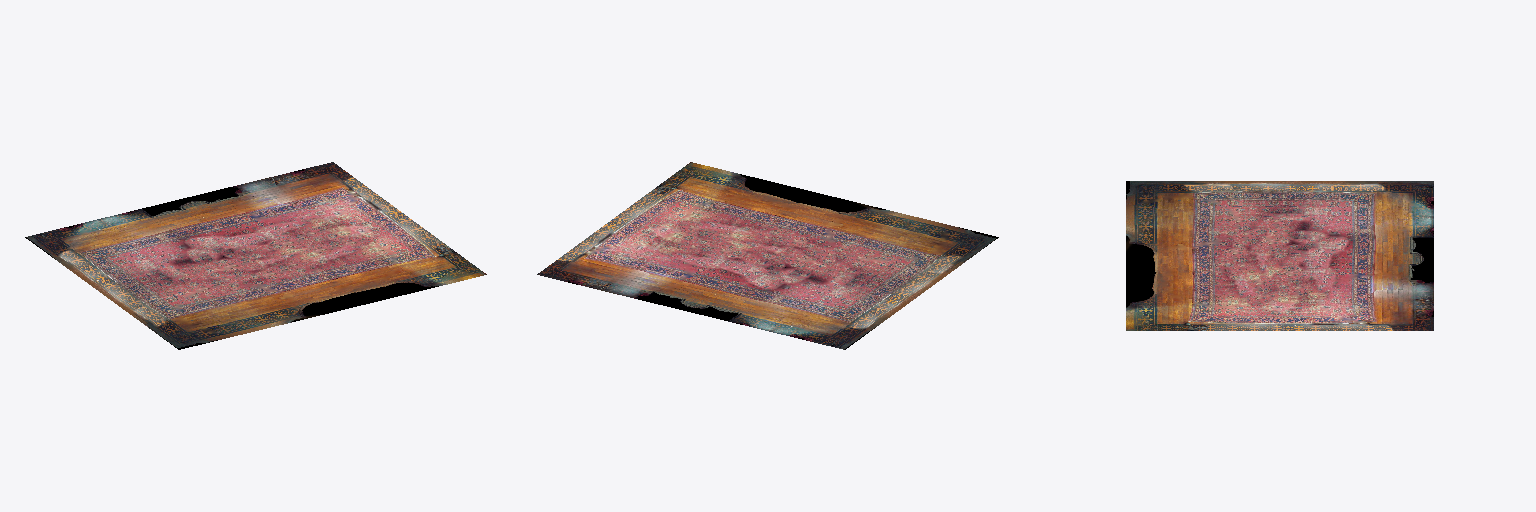
3 renders of one model, left to right at view 1: azimuth 30°, elevation 25°; view 2: azimuth 150°, elevation 25°; view 3: azimuth 270°, elevation 25°, orthographic.
Parts seen in each view (by area): view 1: Kitchen_GEO_GRP1_Floor_01; view 2: Kitchen_GEO_GRP1_Floor_01; view 3: Kitchen_GEO_GRP1_Floor_01.
Boxes of the visible parts, <box> form: Kitchen_GEO_GRP1_Floor_01: <box>25,162,486,349</box>; Kitchen_GEO_GRP1_Floor_01: <box>537,162,998,349</box>; Kitchen_GEO_GRP1_Floor_01: <box>1126,181,1433,330</box>.
Bounding box in the file's own units: 6.92 × 0 × 5.99.
1 materials, 1 textured.